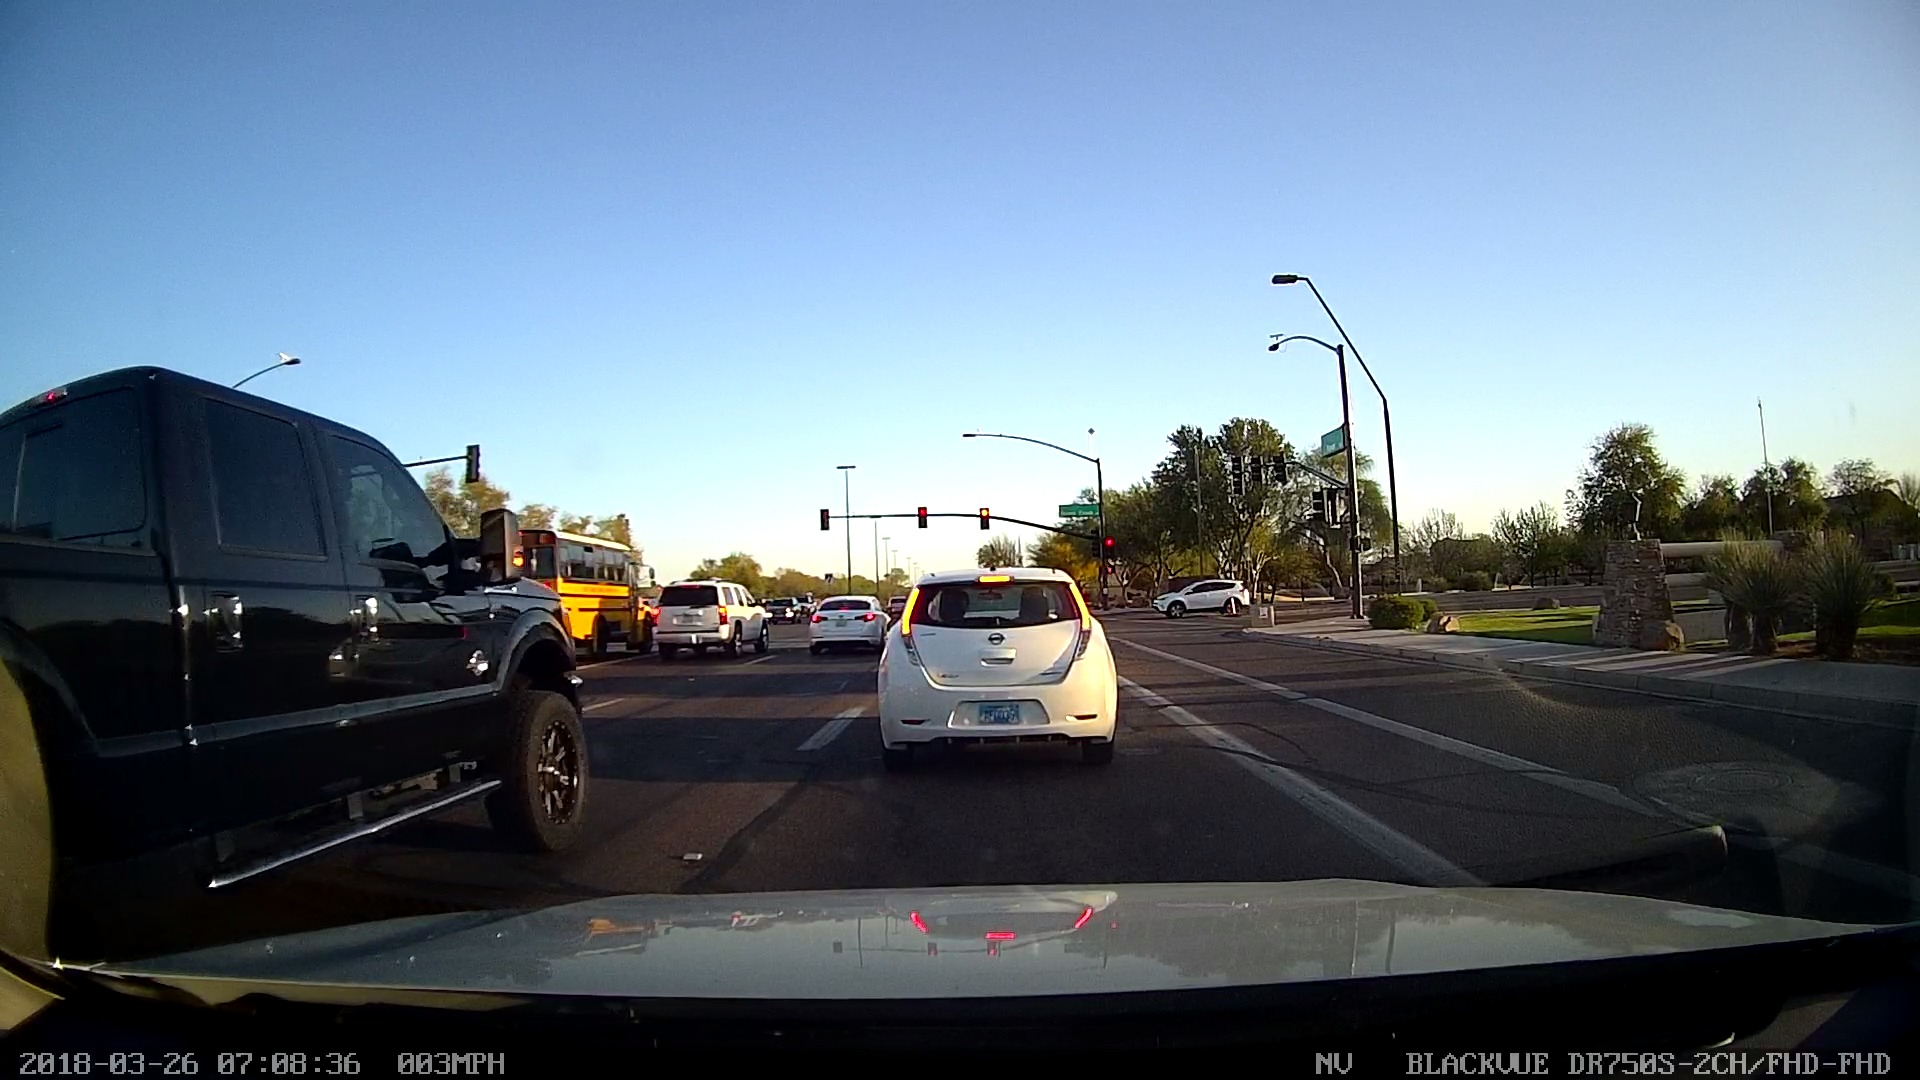vehicle: (4, 357, 597, 939), (864, 551, 1122, 764), (481, 513, 676, 665), (642, 560, 777, 667), (789, 575, 915, 661), (1147, 572, 1257, 622)
